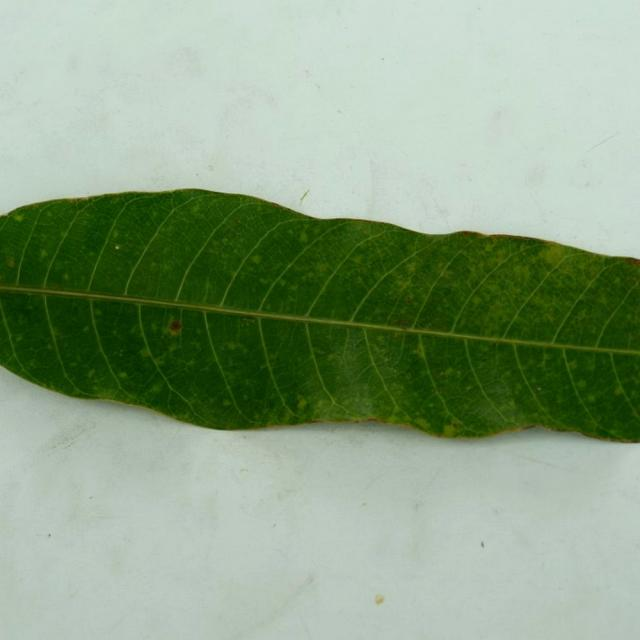Mango: (0, 189, 639, 442)
Powdery_Mildew: (530, 243, 568, 265), (174, 46, 203, 73), (396, 278, 412, 291), (441, 424, 457, 437), (415, 341, 427, 358), (395, 317, 412, 329), (250, 252, 263, 267), (354, 274, 367, 289), (414, 417, 430, 429), (203, 278, 212, 296), (224, 341, 240, 351), (539, 352, 551, 365), (169, 320, 182, 332), (112, 240, 124, 252), (459, 230, 479, 237), (624, 257, 639, 266), (404, 262, 416, 273), (575, 312, 588, 322), (297, 399, 308, 410), (168, 343, 180, 353), (327, 354, 340, 363), (241, 316, 255, 324), (151, 383, 162, 393), (472, 297, 483, 307), (139, 349, 151, 358), (375, 336, 385, 346), (299, 231, 308, 242), (317, 264, 328, 273), (352, 256, 363, 265), (184, 359, 195, 368), (6, 257, 15, 268), (576, 380, 586, 389), (155, 357, 165, 366), (568, 361, 578, 370), (236, 346, 246, 355), (512, 384, 521, 394), (443, 368, 454, 376), (13, 214, 24, 222), (222, 238, 233, 246), (49, 283, 61, 290), (39, 249, 48, 258), (614, 386, 623, 395), (191, 205, 200, 214), (87, 369, 95, 378), (259, 277, 268, 285), (587, 394, 596, 402), (160, 264, 169, 272), (118, 372, 128, 379), (94, 308, 102, 316), (222, 399, 231, 406), (438, 321, 447, 328), (62, 273, 69, 281), (279, 279, 286, 287), (82, 325, 90, 332), (150, 323, 158, 330), (290, 284, 298, 291), (149, 261, 157, 268), (15, 335, 23, 342), (360, 267, 368, 274), (264, 303, 271, 310), (287, 229, 294, 236), (112, 232, 120, 238), (242, 393, 248, 401), (451, 423, 459, 429), (439, 371, 447, 377), (47, 344, 54, 350), (466, 385, 473, 391), (406, 296, 412, 303), (234, 219, 241, 225), (537, 387, 541, 391)
